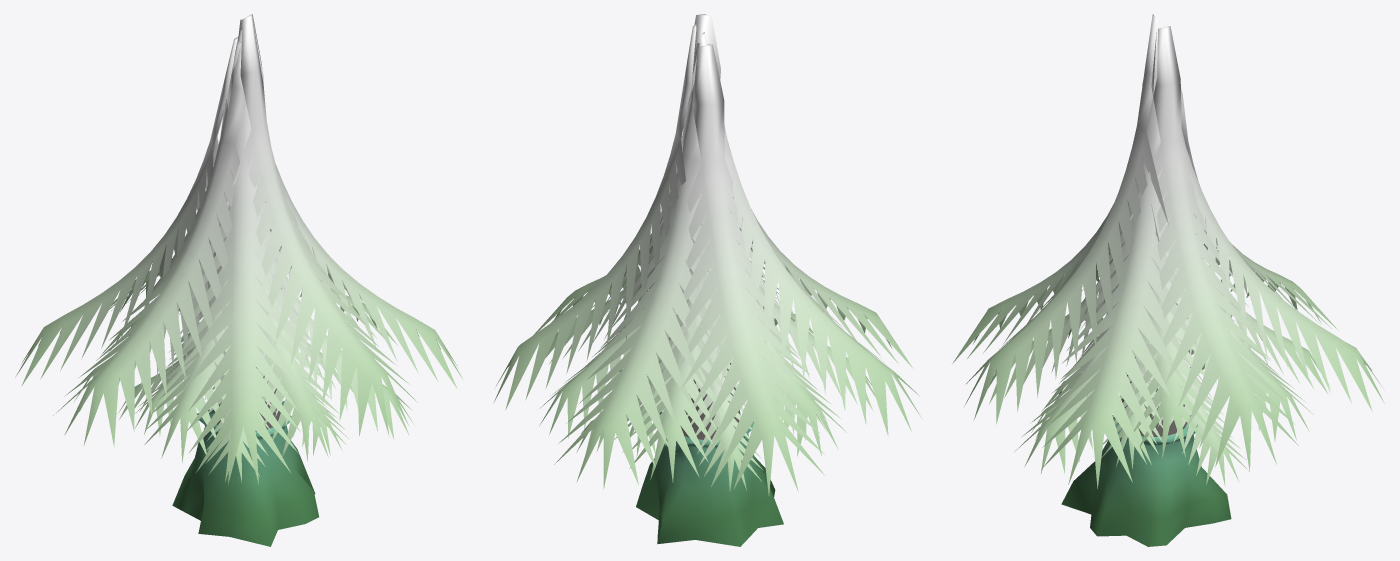
The model's file is Alien Pine Tree SnowTop version.fbx.
3 views of the same model, side by side, from view 1: azimuth 30°, elevation 25°; view 2: azimuth 150°, elevation 25°; view 3: azimuth 270°, elevation 25° (orthographic). The views are drawn at different scales.
Visible parts, largest first — view 1: Broadleaf pine; view 2: Broadleaf pine; view 3: Broadleaf pine.
Part boxes in pixels (left/top/right/bottom): Broadleaf pine: left=15, top=14, right=462, bottom=546; Broadleaf pine: left=494, top=14, right=921, bottom=546; Broadleaf pine: left=952, top=14, right=1384, bottom=546.
Bounding box in the file's own units: 67.03 × 83.82 × 65.88.
